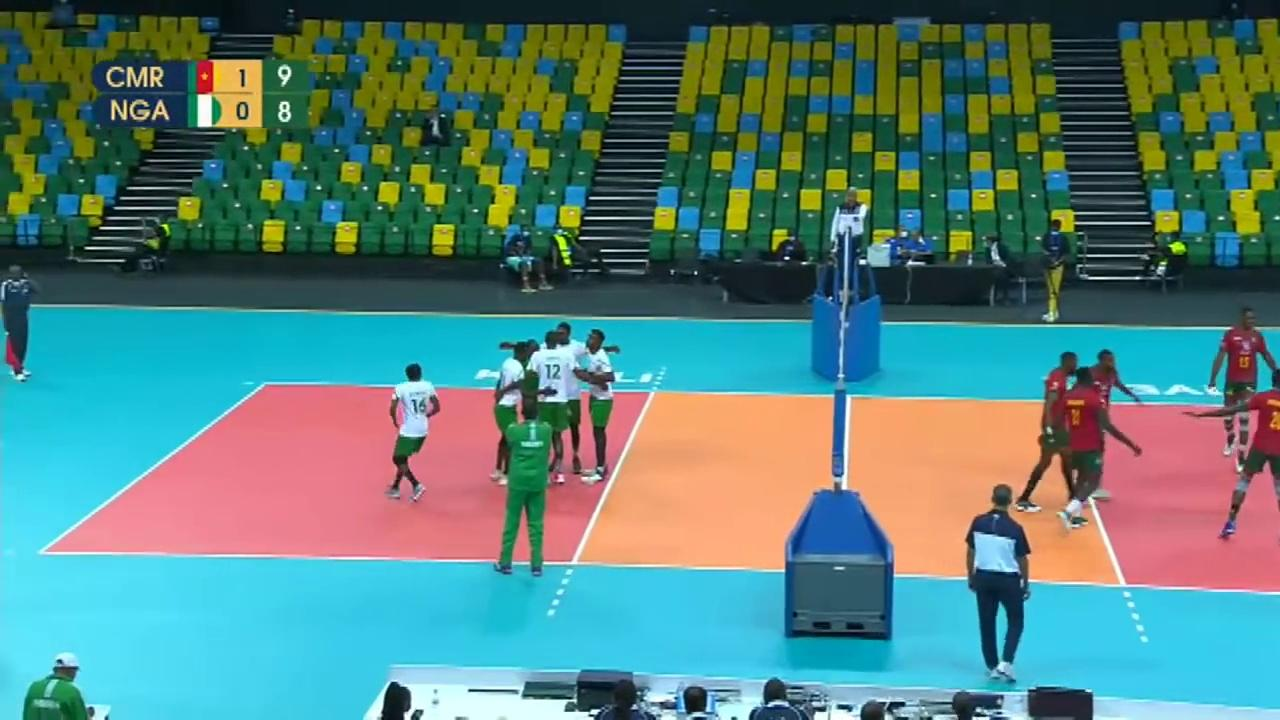player: (1206, 368, 1280, 539), (1056, 370, 1118, 543), (1211, 310, 1269, 467), (1083, 345, 1136, 502), (1034, 350, 1079, 511), (386, 365, 437, 501), (537, 329, 575, 489), (552, 314, 587, 472), (586, 326, 615, 489), (490, 341, 521, 490)
refree: (961, 489, 1034, 677), (2, 260, 38, 381), (831, 185, 868, 284)
